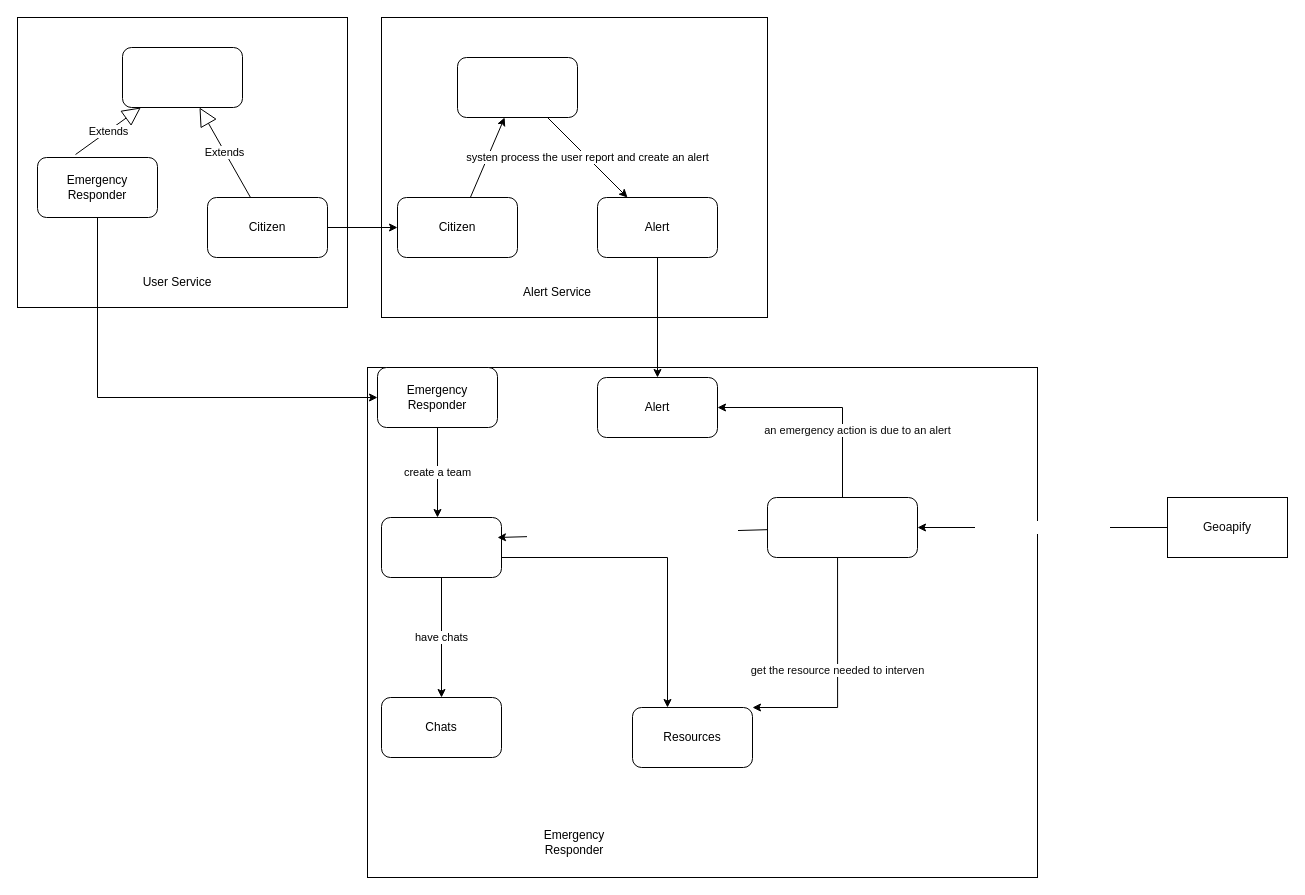
Some shapes in this 1305 by 895 pixel diagram are drawn without their labels. The shapes that lost their labels are listed below. From the top down, each one's centre as x and y in pixels, then its label:
At (182,77): "User".
At (517,87): "UserReport".
At (441,547): "Emergency Responder Team".
At (842,527): "Emergency Actions".
